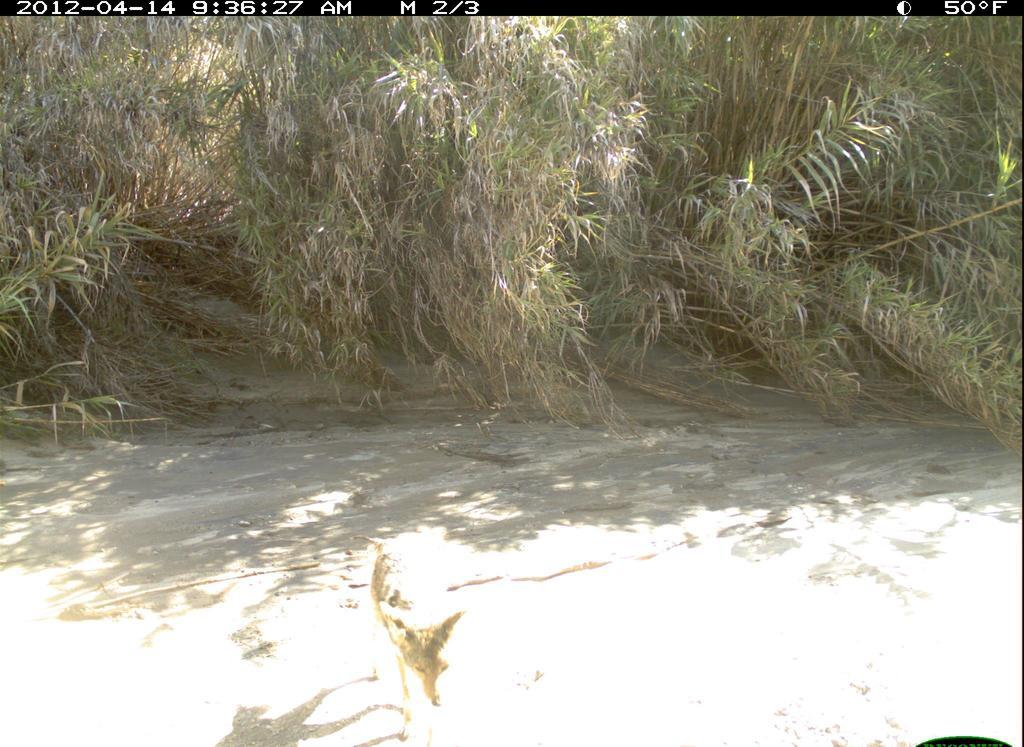coyote: (342, 523, 489, 747)
